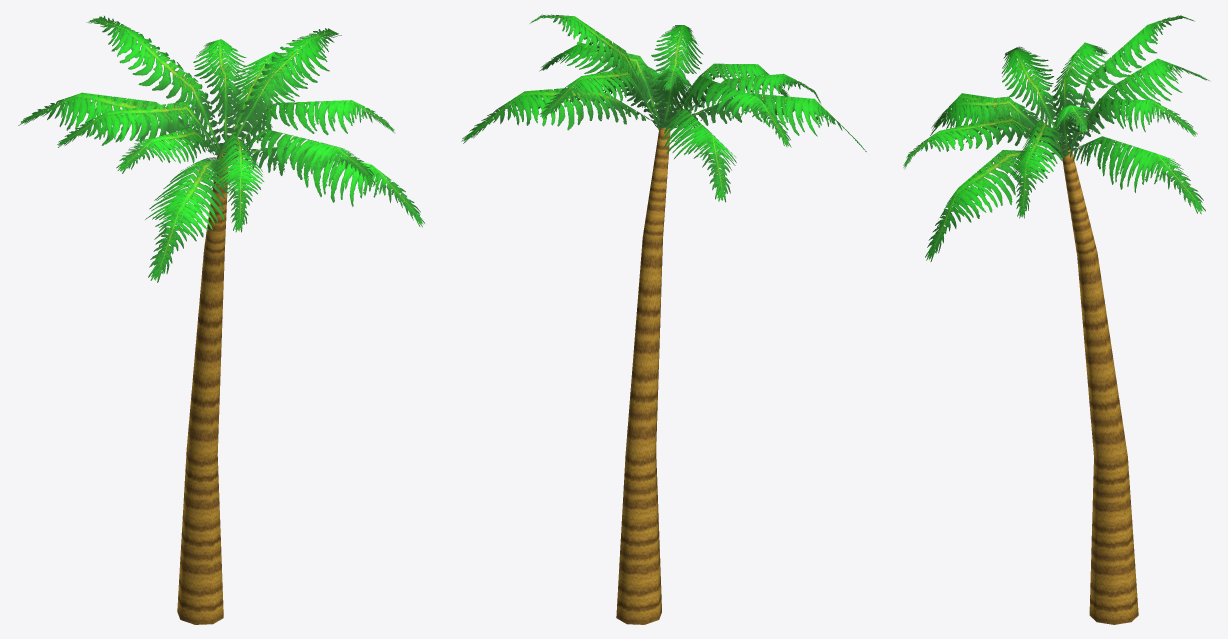
The model's file is hugepalm01.obj.
3 views of the same model, side by side, from view 1: azimuth 30°, elevation 25°; view 2: azimuth 150°, elevation 25°; view 3: azimuth 270°, elevation 25° (orthographic). The views are drawn at different scales.
Parts seen in each view (by area): view 1: Cylinder01, Duplicate06, Duplicate04, Duplicate11; view 2: Cylinder01, Duplicate06, Duplicate11, Duplicate04; view 3: Cylinder01, Duplicate06, Duplicate04, Duplicate11.
Boxes of the visible parts, x1,y1,x2,y2 form: Cylinder01: [177, 148, 228, 624]; Duplicate06: [18, 51, 424, 282]; Duplicate04: [86, 16, 375, 186]; Duplicate11: [57, 39, 394, 232]; Cylinder01: [616, 120, 670, 624]; Duplicate06: [461, 64, 866, 202]; Duplicate11: [539, 43, 791, 147]; Duplicate04: [530, 14, 820, 128]; Cylinder01: [1062, 144, 1138, 624]; Duplicate06: [925, 58, 1209, 261]; Duplicate04: [903, 15, 1194, 169]; Duplicate11: [930, 42, 1197, 218].
Bounding box in the file's own units: 117 × 219 × 109.
